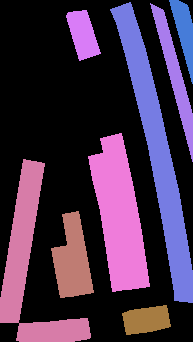parkingspot: (110, 2, 193, 302), (100, 133, 149, 289), (0, 159, 44, 322), (150, 3, 193, 167), (88, 152, 130, 291), (62, 211, 93, 295), (169, 0, 193, 87), (16, 318, 90, 342), (66, 10, 100, 60), (51, 245, 78, 297), (122, 305, 170, 334)
